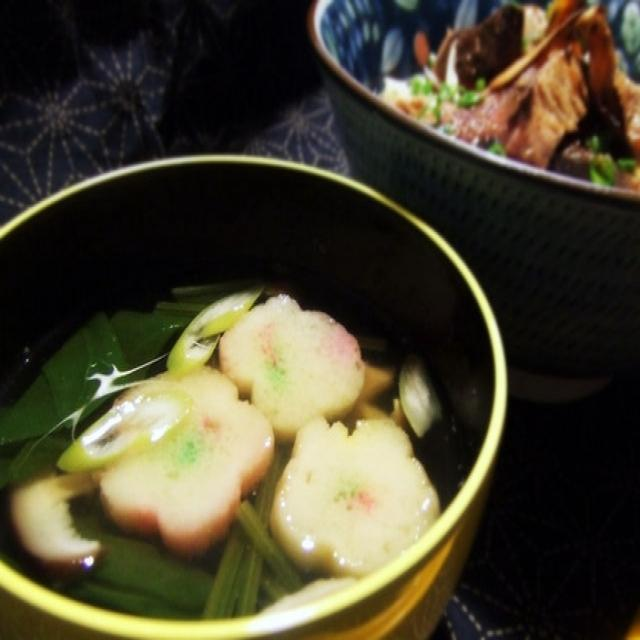汤锅炖物: (10, 151, 511, 628)
